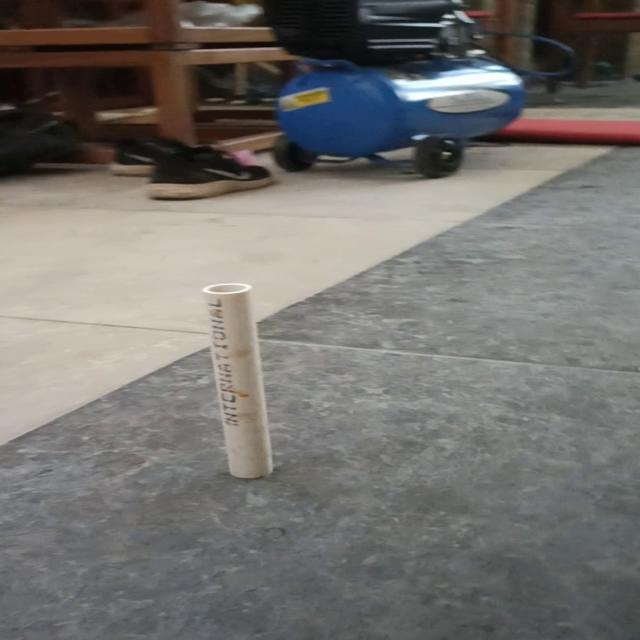Cube: (198, 281, 276, 479)
